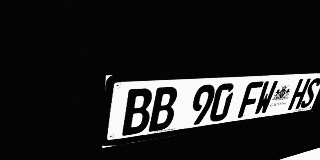0: (208, 83, 236, 123)
9: (188, 84, 217, 126)
B: (122, 88, 154, 136), (148, 86, 179, 132)
F: (237, 81, 264, 118)
H: (287, 78, 311, 110)
S: (299, 78, 320, 108)
W: (253, 80, 279, 116)
